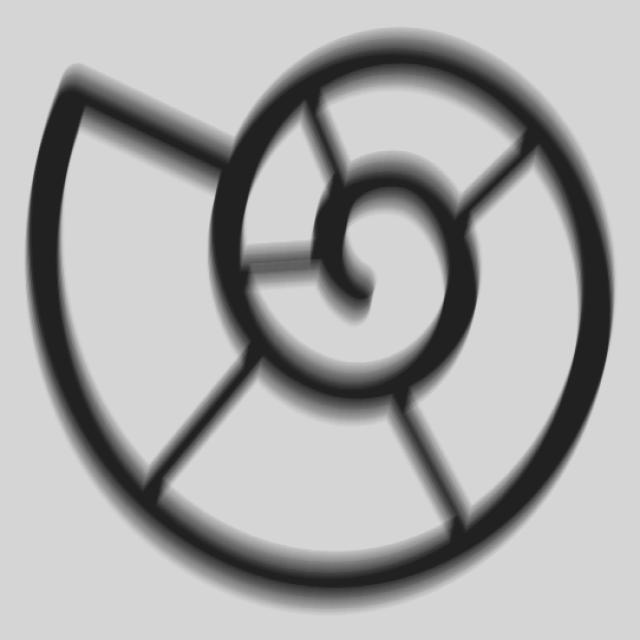fossil: (8, 17, 631, 636)
